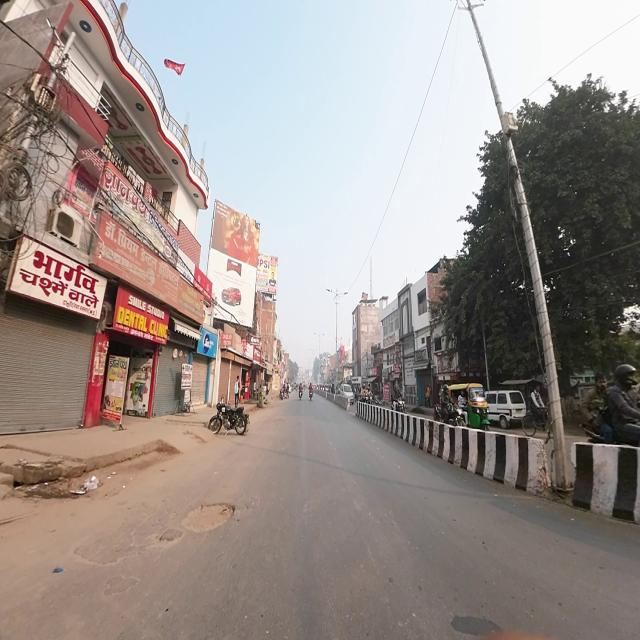Garbage: (77, 466, 107, 505)
